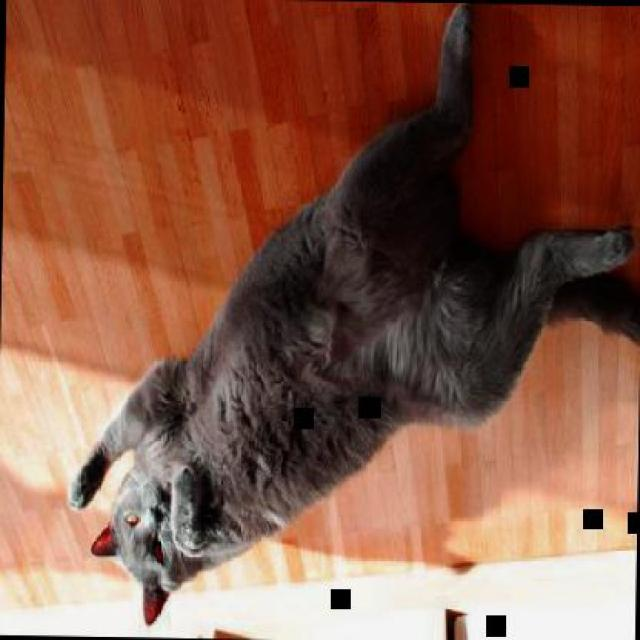cat: (64, 0, 638, 635)
